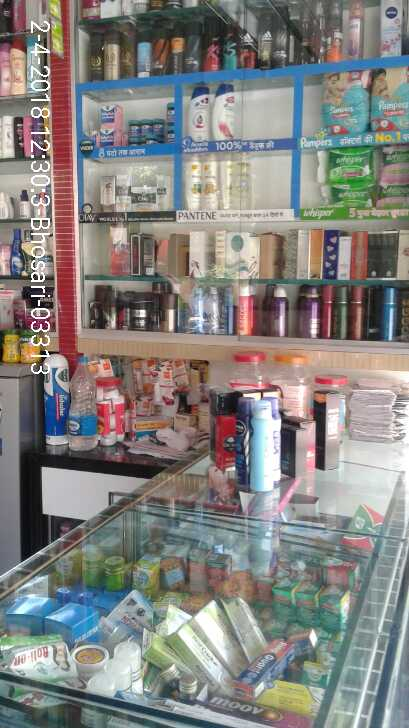vicks: (85, 98, 178, 149)
